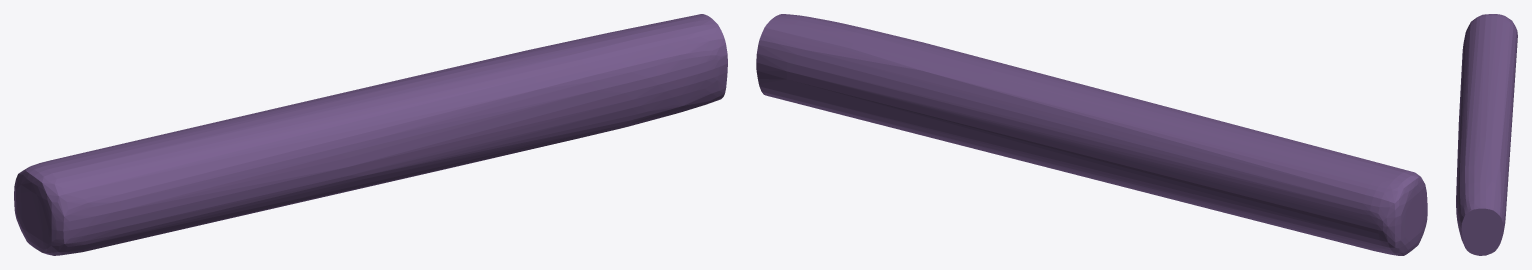
3 renders of one model, left to right at view 1: azimuth 30°, elevation 25°; view 2: azimuth 150°, elevation 25°; view 3: azimuth 270°, elevation 25°, orthographic. The views are drawn at different scales.
Bounding box in the file's own units: 0.2406 × 0.0288 × 0.032.
